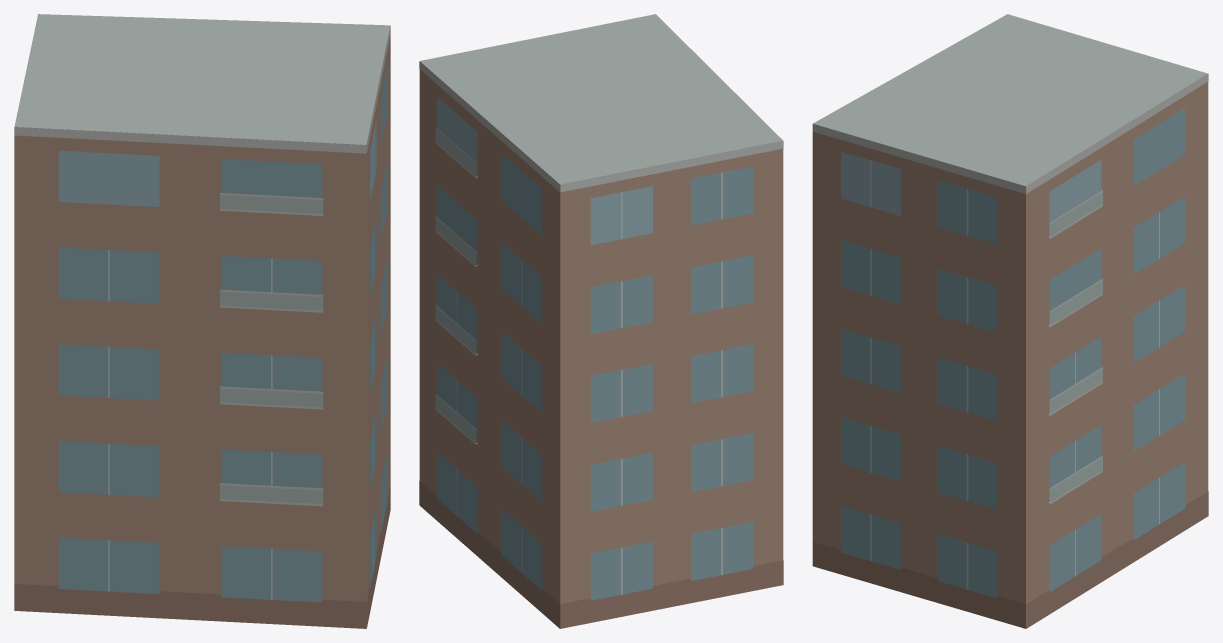
Rendered from survey-upis-32995472.glb.
The picture shows the model from 3 angles, left to right: view 1: azimuth 30°, elevation 25°; view 2: azimuth 150°, elevation 25°; view 3: azimuth 270°, elevation 25°; orthographic projection. The views are drawn at different scales.
Visible parts, largest first — view 1: survey-upis-32995472.tmp; view 2: survey-upis-32995472.tmp; view 3: survey-upis-32995472.tmp.
Part boxes in pixels (box(x1,y1,x2,y2)): survey-upis-32995472.tmp: box(14, 14, 390, 628); survey-upis-32995472.tmp: box(419, 14, 783, 628); survey-upis-32995472.tmp: box(812, 14, 1208, 628).
Size of the model in its own units: 11.54 by 13.8 by 11.19.
